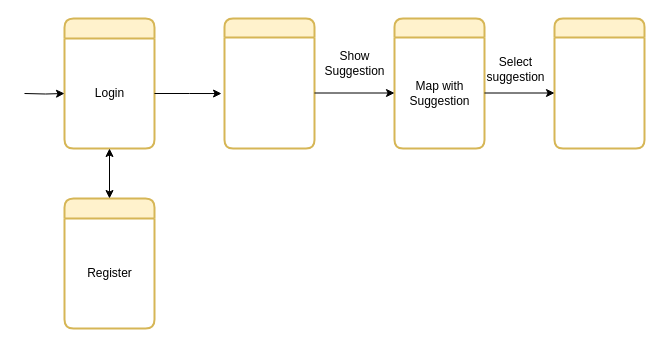
Image size: 663x346. Some labels were removed from this diagram. Each missing label, with the box of its shape:
Main Menu: (223, 17, 315, 149)
Suggestion Detail: (553, 17, 645, 149)
